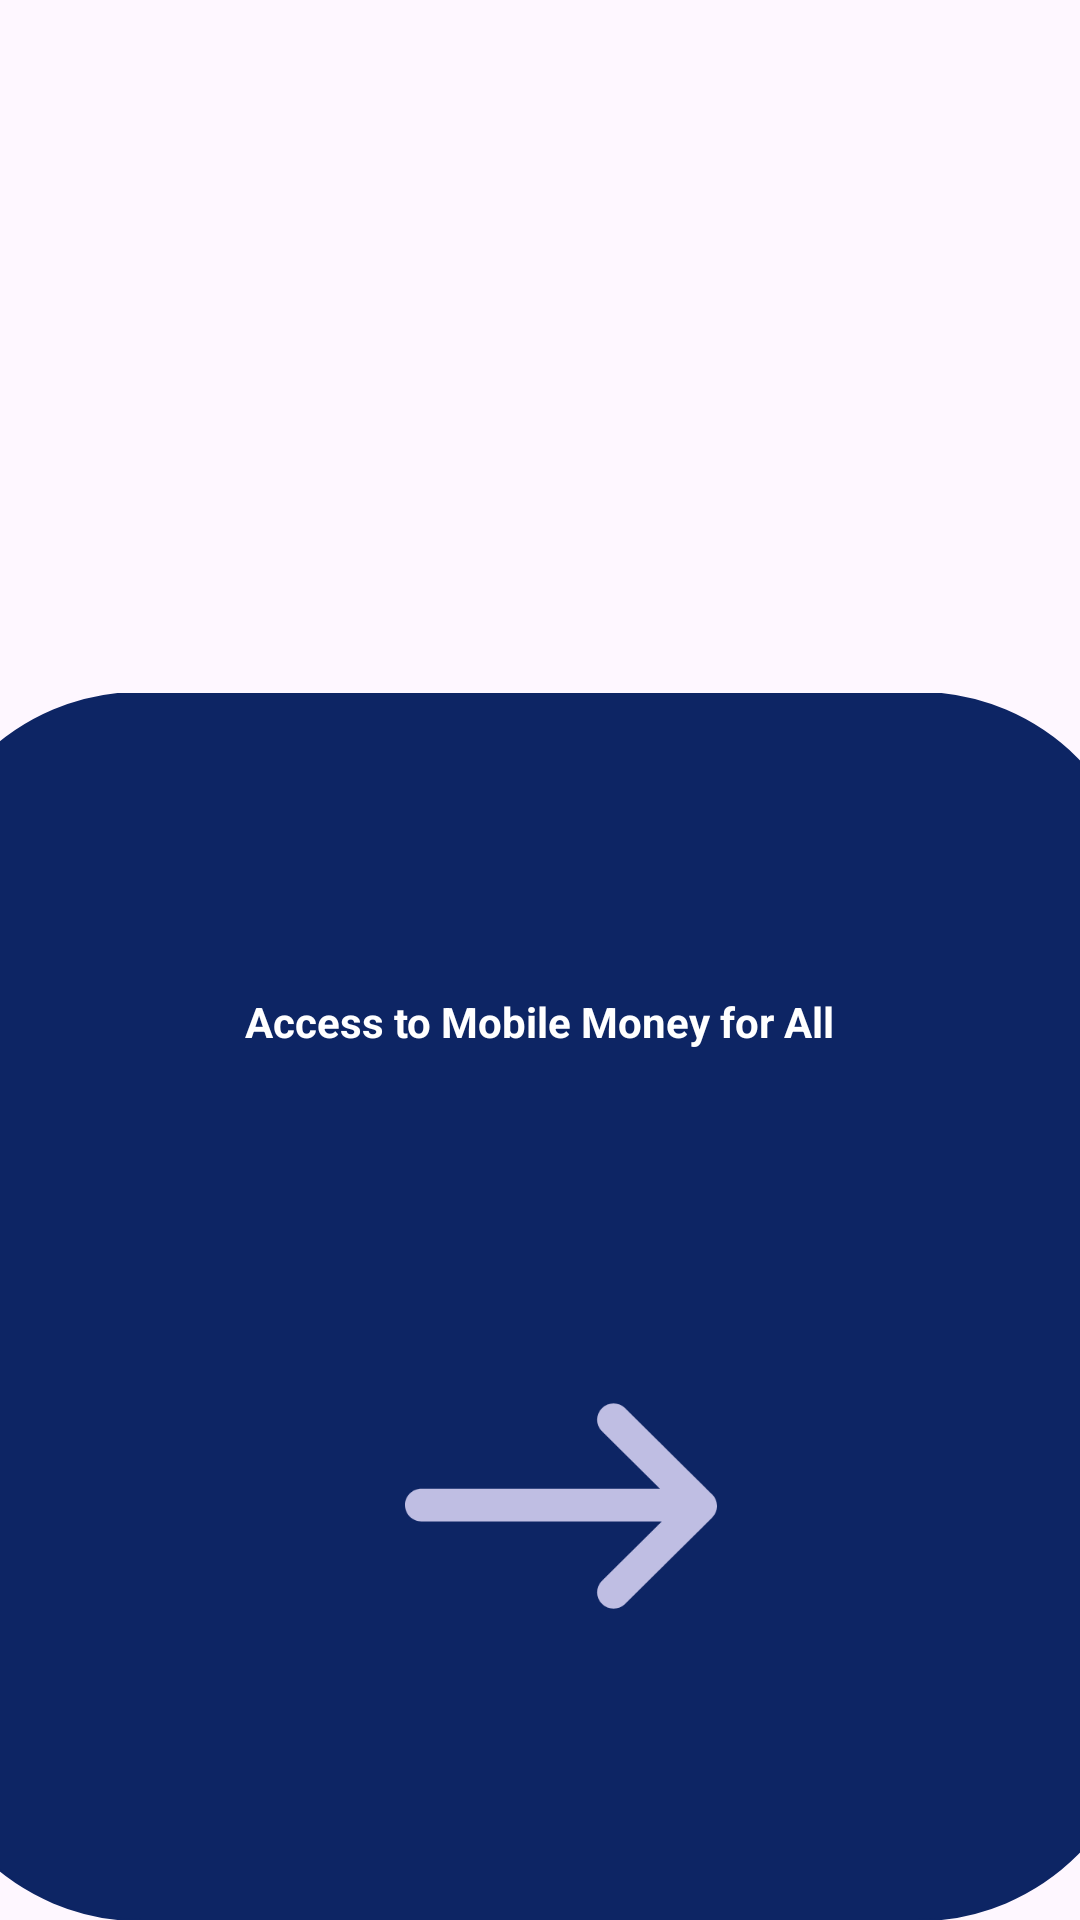

Named icons in this screenshot (1080px×1920px) and their centers, [x,y]:
right arrow: [561,1506]
